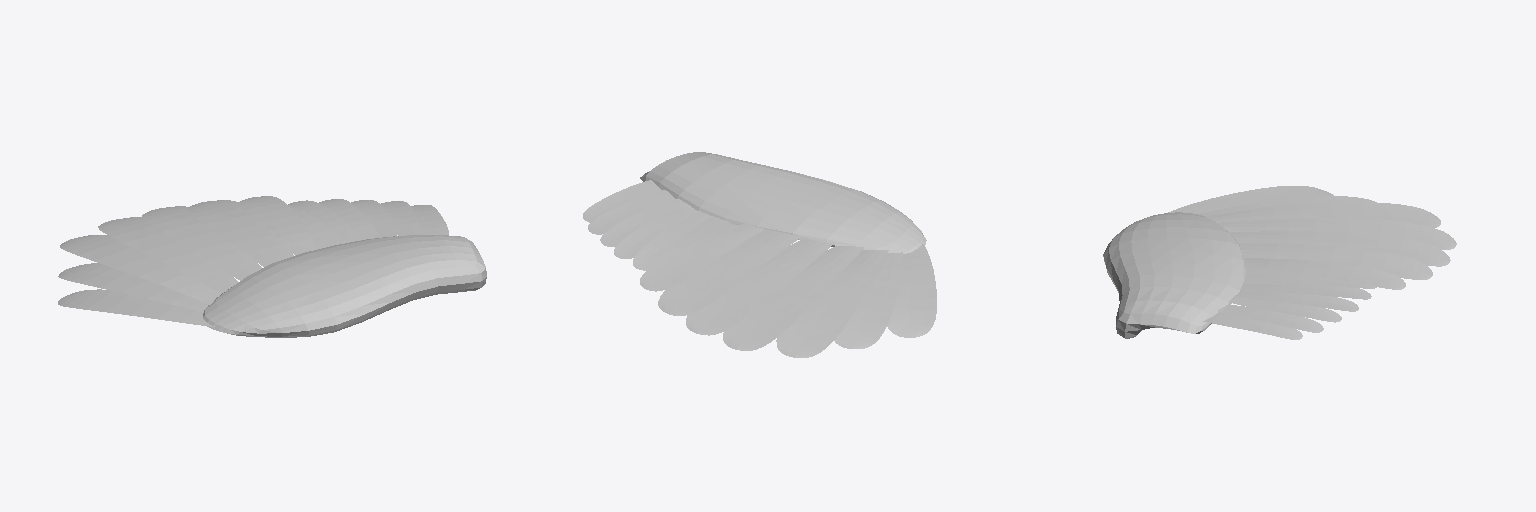
File: CuckoAlaLP.obj
The picture shows the model from 3 angles: view 1: azimuth 30°, elevation 25°; view 2: azimuth 150°, elevation 25°; view 3: azimuth 270°, elevation 25°; orthographic projection.
Visible parts, largest first — view 1: Izq_wing.001; view 2: Izq_wing.001; view 3: Izq_wing.001.
Part boxes in pixels (left/top/right/bottom): Izq_wing.001: left=58, top=196, right=486, bottom=337; Izq_wing.001: left=583, top=152, right=936, bottom=357; Izq_wing.001: left=1103, top=186, right=1456, bottom=339.
Bounding box in the file's own units: 3.35 × 0.3791 × 2.86.